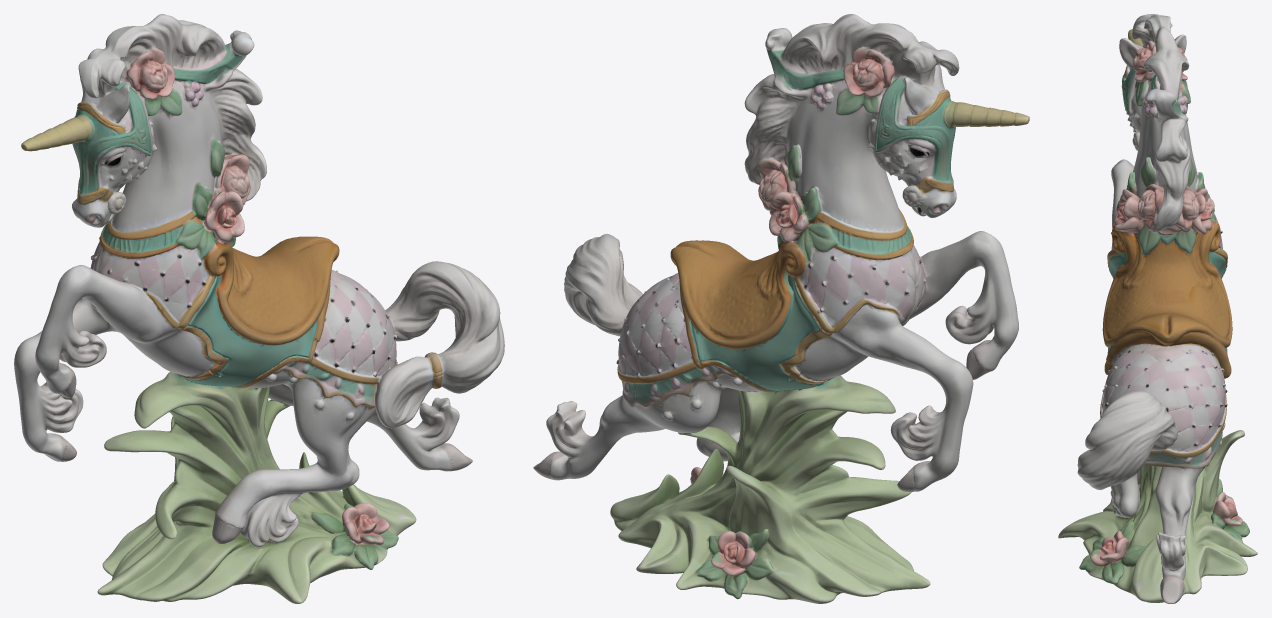
The model's file is Modelo 1.glb.
3 renders of one model, left to right at view 1: azimuth 30°, elevation 25°; view 2: azimuth 150°, elevation 25°; view 3: azimuth 270°, elevation 25°, orthographic. The views are drawn at different scales.
Parts seen in each view (by area): view 1: tripo_node_af51c6f9-9674-4170-bad1-a1222b9cf3ea; view 2: tripo_node_af51c6f9-9674-4170-bad1-a1222b9cf3ea; view 3: tripo_node_af51c6f9-9674-4170-bad1-a1222b9cf3ea.
Boxes of the visible parts, x1=… form: tripo_node_af51c6f9-9674-4170-bad1-a1222b9cf3ea: x1=14, y1=14, x2=504, y2=603; tripo_node_af51c6f9-9674-4170-bad1-a1222b9cf3ea: x1=533, y1=14, x2=1029, y2=603; tripo_node_af51c6f9-9674-4170-bad1-a1222b9cf3ea: x1=1058, y1=14, x2=1257, y2=603.
Bounding box in the file's own units: 0.8571 × 0.98 × 0.3704.
Materials: 1 (1 with a texture image).
